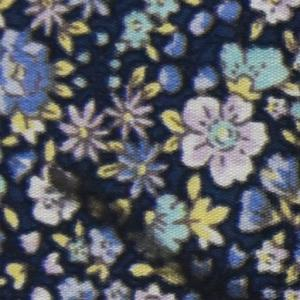Stain: (44, 157, 252, 300)
